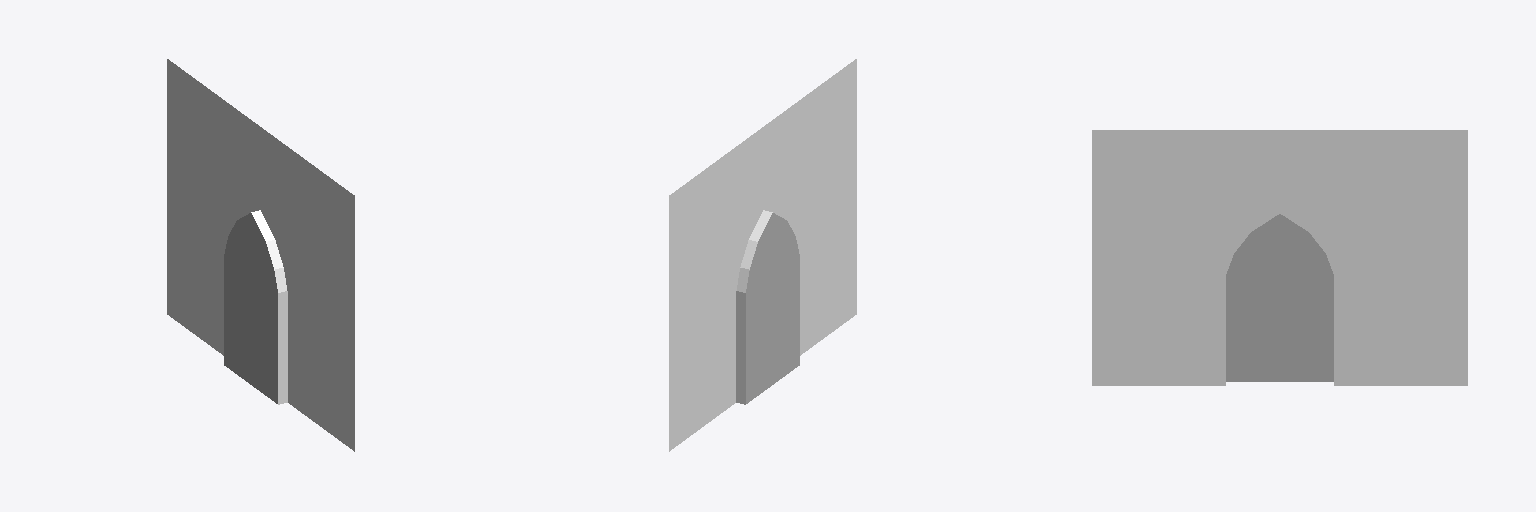
The model's file is DoorWall_01.obj.
The picture shows the model from 3 angles: view 1: azimuth 30°, elevation 25°; view 2: azimuth 150°, elevation 25°; view 3: azimuth 270°, elevation 25°; orthographic projection.
Parts seen in each view (by area): view 1: Wall_01__38_.001_Scene.002; view 2: Wall_01__38_.001_Scene.002; view 3: Wall_01__38_.001_Scene.002.
Part boxes in pixels (x1,y1,x2,y2): Wall_01__38_.001_Scene.002: (167,59,354,451); Wall_01__38_.001_Scene.002: (669,59,856,451); Wall_01__38_.001_Scene.002: (1092,130,1467,385).
Size of the model in its own units: 0.2301 by 6 by 8.